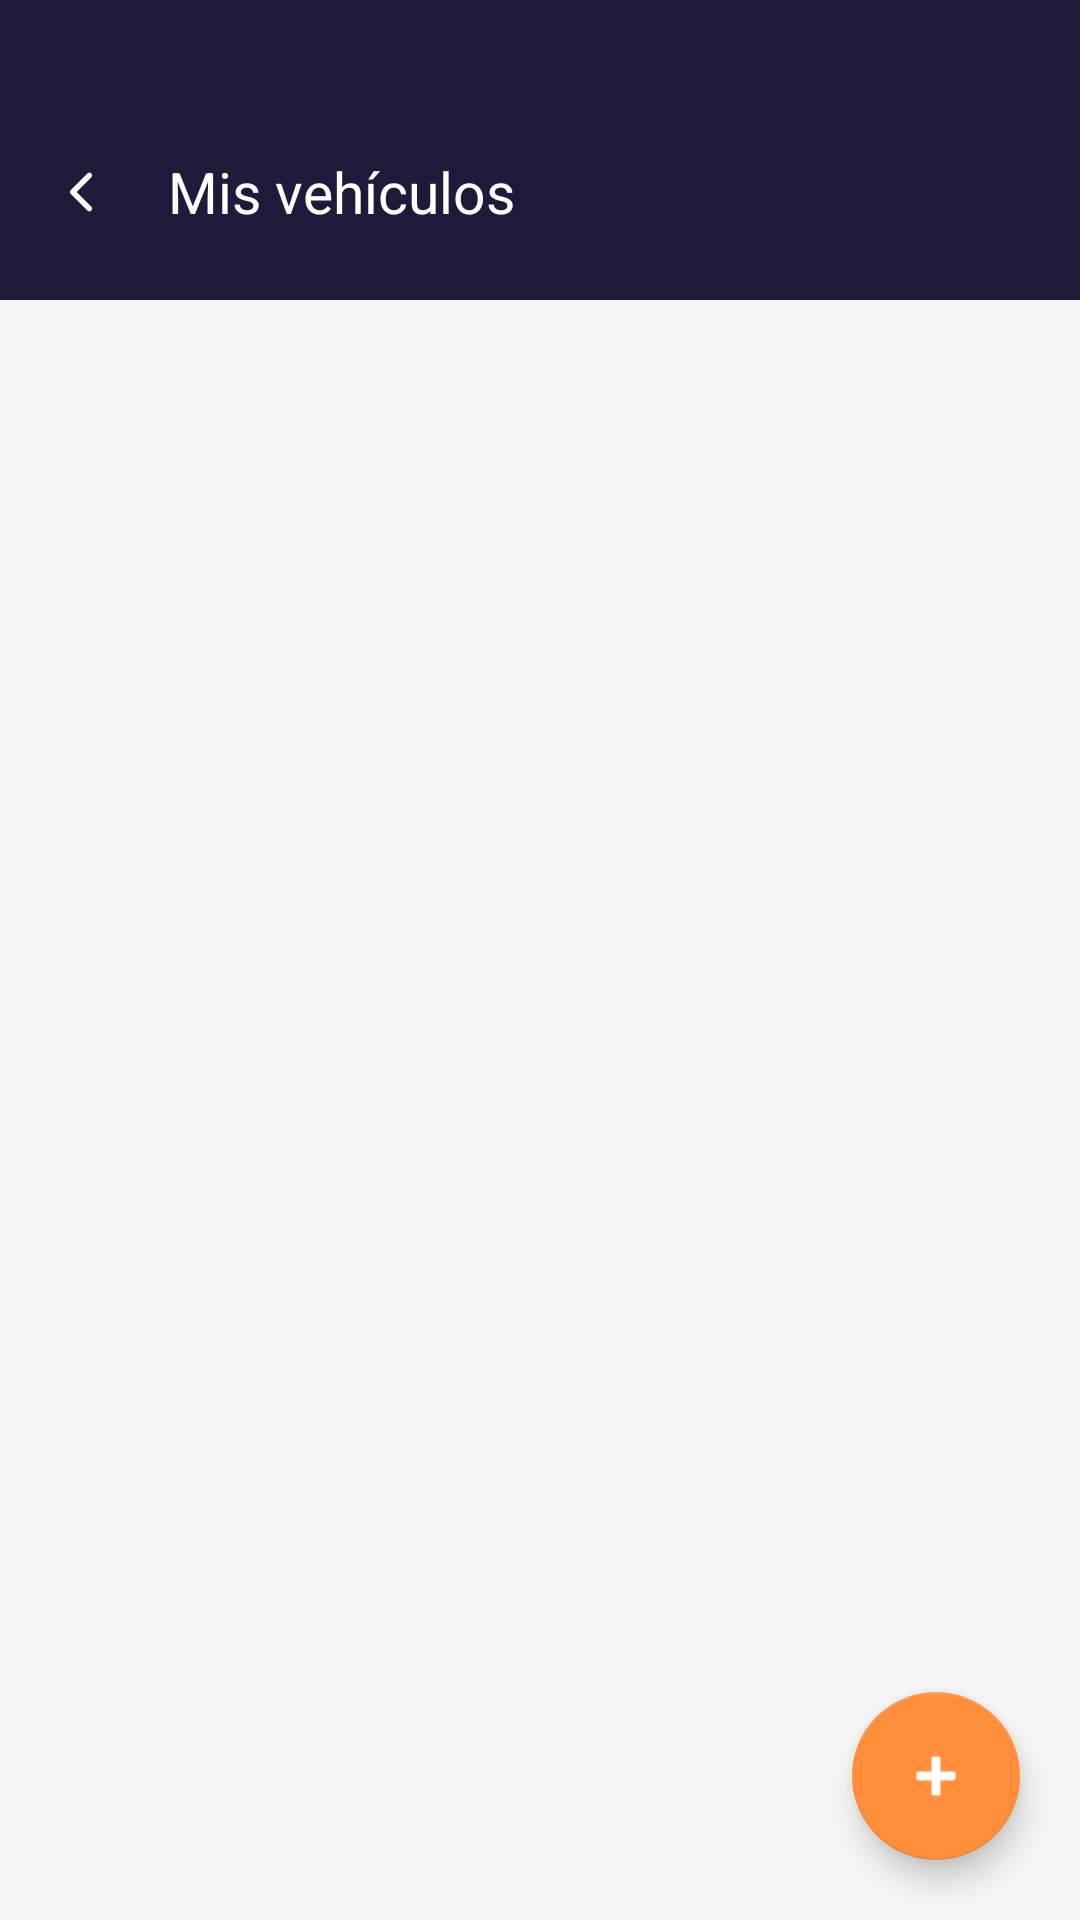

Icons on this 1080x1920 Android screen, each with its box as (x1, y1, x2, y2):
add: (852, 1692, 1020, 1860)
arrow back: (70, 172, 93, 212)
